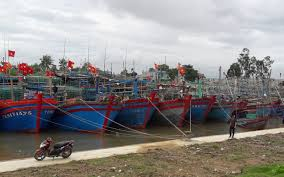tau_dansu: (55, 64, 120, 135), (2, 68, 53, 135), (119, 59, 157, 129), (158, 65, 188, 126), (190, 59, 213, 129)
